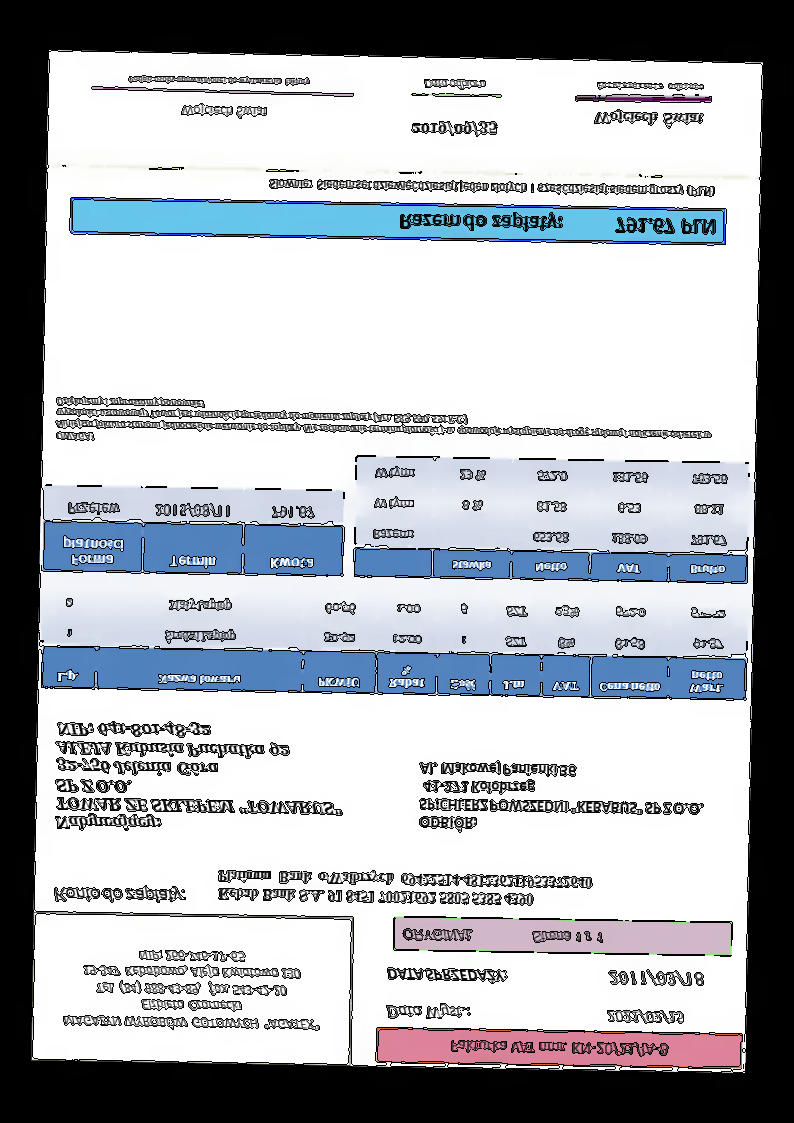Table: (39, 583, 748, 704), (351, 453, 751, 583), (41, 482, 345, 578)
TextBox: (53, 395, 714, 455), (52, 716, 345, 836), (416, 759, 710, 837), (59, 946, 325, 1032), (214, 865, 594, 912), (264, 175, 718, 202), (394, 209, 718, 241), (445, 1037, 672, 1060), (400, 925, 609, 948), (48, 884, 189, 908), (383, 962, 507, 987), (125, 73, 314, 89), (587, 107, 707, 131), (606, 968, 707, 991), (407, 118, 501, 140), (606, 1005, 685, 1031), (383, 1002, 476, 1023), (176, 102, 269, 123), (593, 79, 706, 95), (421, 76, 487, 95)
